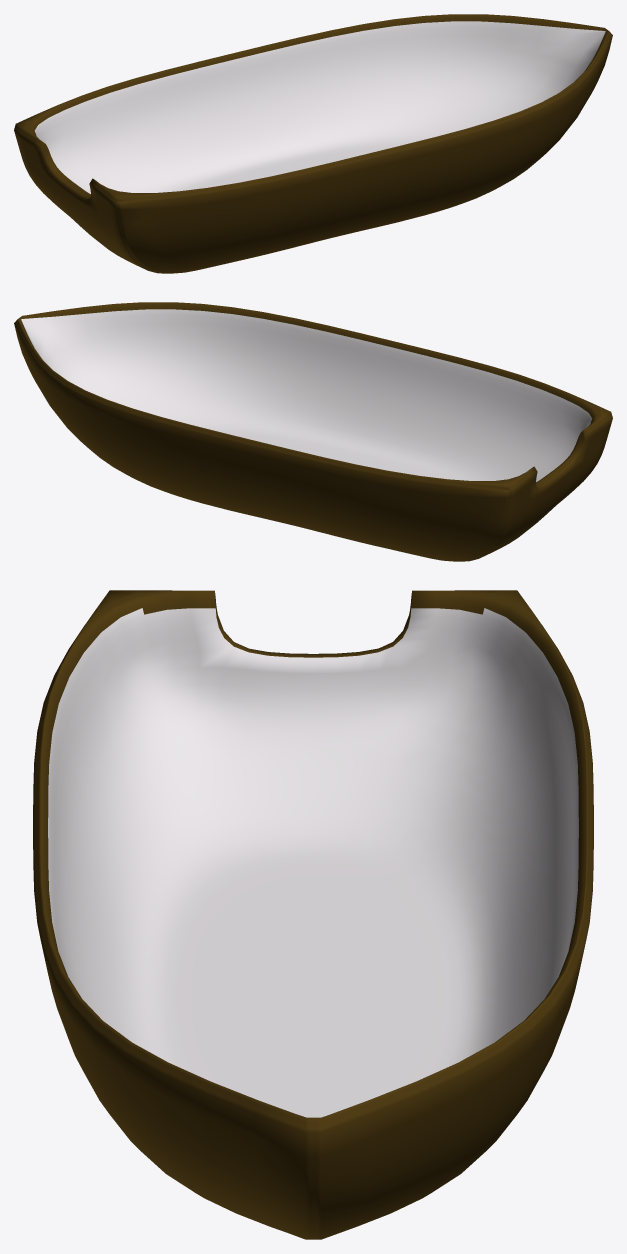
File: LVL 0 BOAT.fbx
The picture shows the model from 3 angles, top to bottom: view 1: azimuth 30°, elevation 25°; view 2: azimuth 150°, elevation 25°; view 3: azimuth 270°, elevation 25°; orthographic projection. The views are drawn at different scales.
Visible parts, largest first — view 1: Lvl 1 Boat.001; view 2: Lvl 1 Boat.001; view 3: Lvl 1 Boat.001.
Boxes of the visible parts, bbox=[...] form: Lvl 1 Boat.001: bbox=[14, 14, 612, 273]; Lvl 1 Boat.001: bbox=[14, 302, 612, 561]; Lvl 1 Boat.001: bbox=[33, 590, 593, 1239].
Bounding box in the file's own units: 288 × 63.91 × 128.
